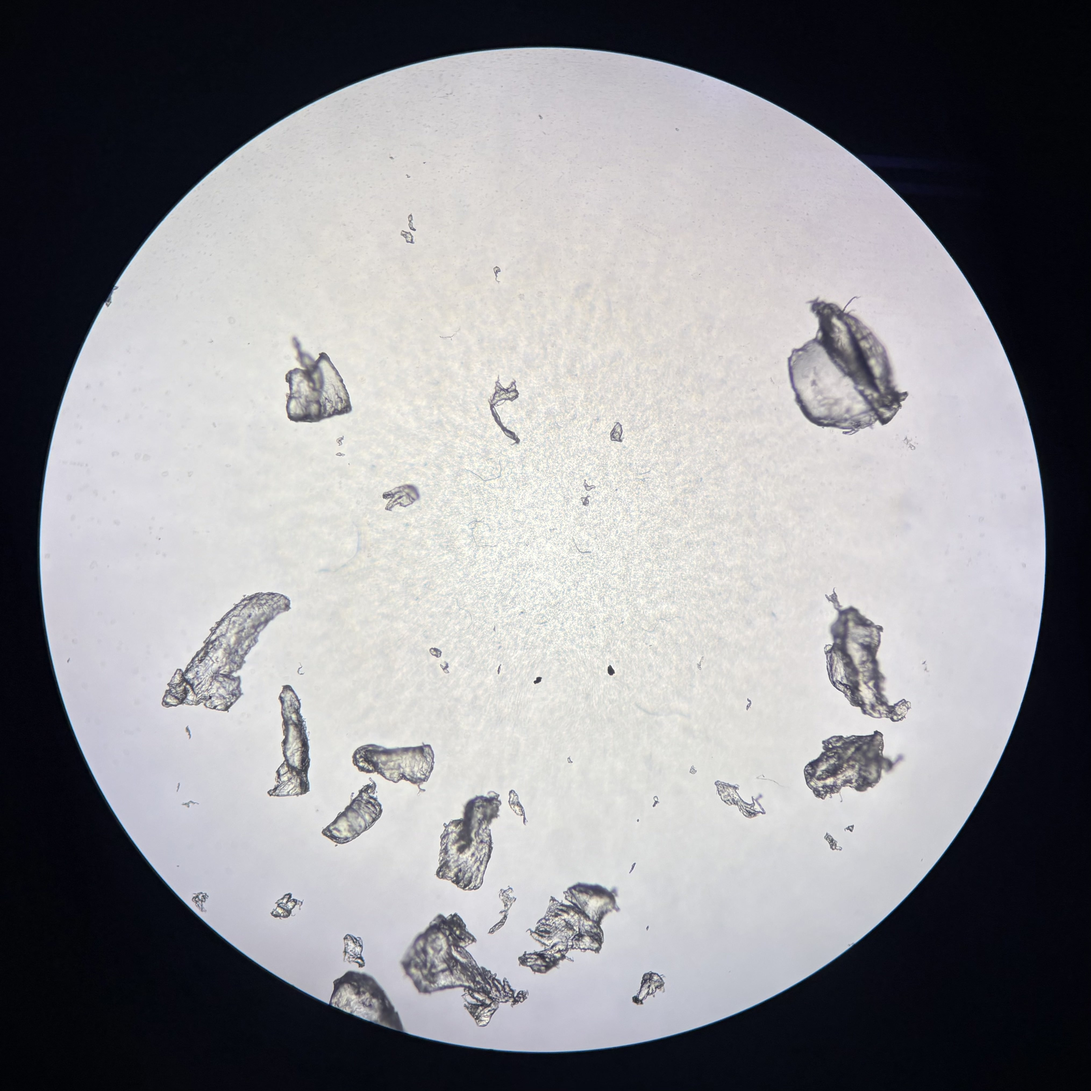microplastic: (783, 293, 912, 434), (159, 587, 291, 712), (397, 911, 529, 1025), (817, 587, 915, 726), (520, 883, 621, 974), (273, 335, 361, 424), (804, 729, 909, 803), (434, 792, 501, 895), (325, 970, 407, 1041), (266, 688, 309, 805), (350, 737, 439, 791), (320, 778, 385, 848), (484, 376, 527, 442), (713, 776, 770, 821), (372, 480, 420, 511), (487, 887, 515, 935), (629, 973, 665, 1008), (338, 934, 370, 967), (506, 787, 533, 826), (273, 888, 303, 919), (606, 421, 625, 442)
